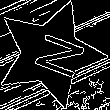N_W: (18, 26, 82, 82)
